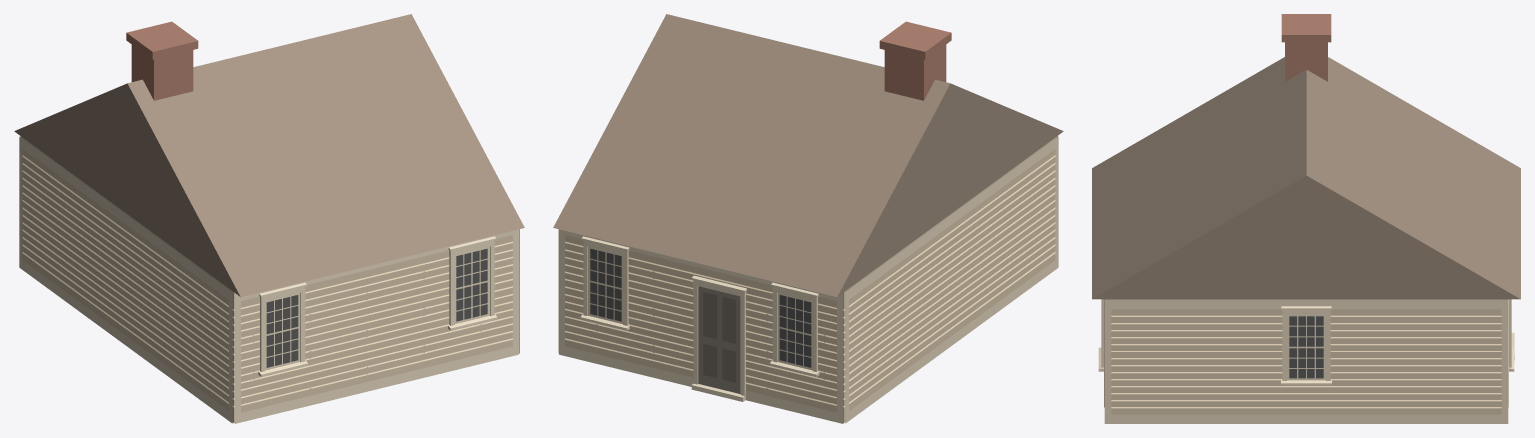
File: recon_1835_west_017__inferred_1835.glb
3 views of the same model, side by side, from view 1: azimuth 30°, elevation 25°; view 2: azimuth 150°, elevation 25°; view 3: azimuth 270°, elevation 25° (orthographic). The views are drawn at different scales.
Visible parts, largest first — view 1: recon_1835_west_017__inferred_1835; view 2: recon_1835_west_017__inferred_1835; view 3: recon_1835_west_017__inferred_1835.
Boxes of the visible parts, x1,y1,x2,y2 form: recon_1835_west_017__inferred_1835: [14, 14, 524, 423]; recon_1835_west_017__inferred_1835: [553, 14, 1063, 423]; recon_1835_west_017__inferred_1835: [1092, 14, 1520, 423].
Bounding box in the file's own units: 6.25 × 6.15 × 8.43.
